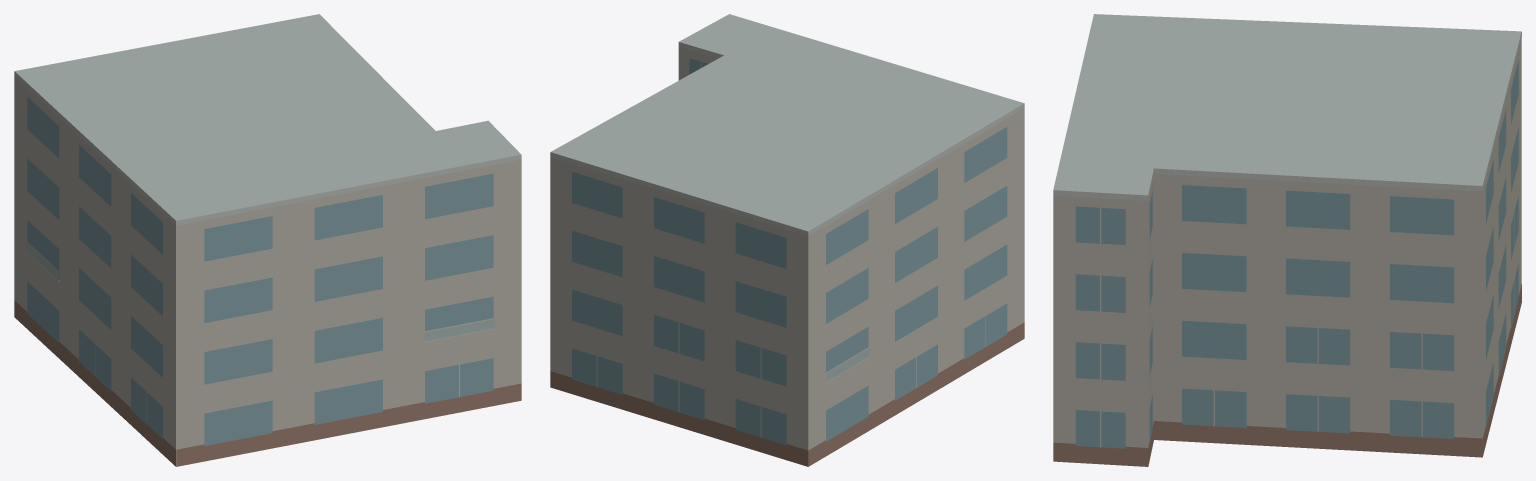
The model's file is survey-upis-32922998.glb.
3 renders of one model, left to right at view 1: azimuth 30°, elevation 25°; view 2: azimuth 150°, elevation 25°; view 3: azimuth 270°, elevation 25°, orthographic. The views are drawn at different scales.
Visible parts, largest first — view 1: survey-upis-32922998.tmp; view 2: survey-upis-32922998.tmp; view 3: survey-upis-32922998.tmp.
Part boxes in pixels (x1,y1,x2,y2): survey-upis-32922998.tmp: (14, 14, 521, 466); survey-upis-32922998.tmp: (550, 14, 1024, 466); survey-upis-32922998.tmp: (1053, 14, 1521, 466).
Bounding box in the file's own units: 17.64 × 12.3 × 19.25.
